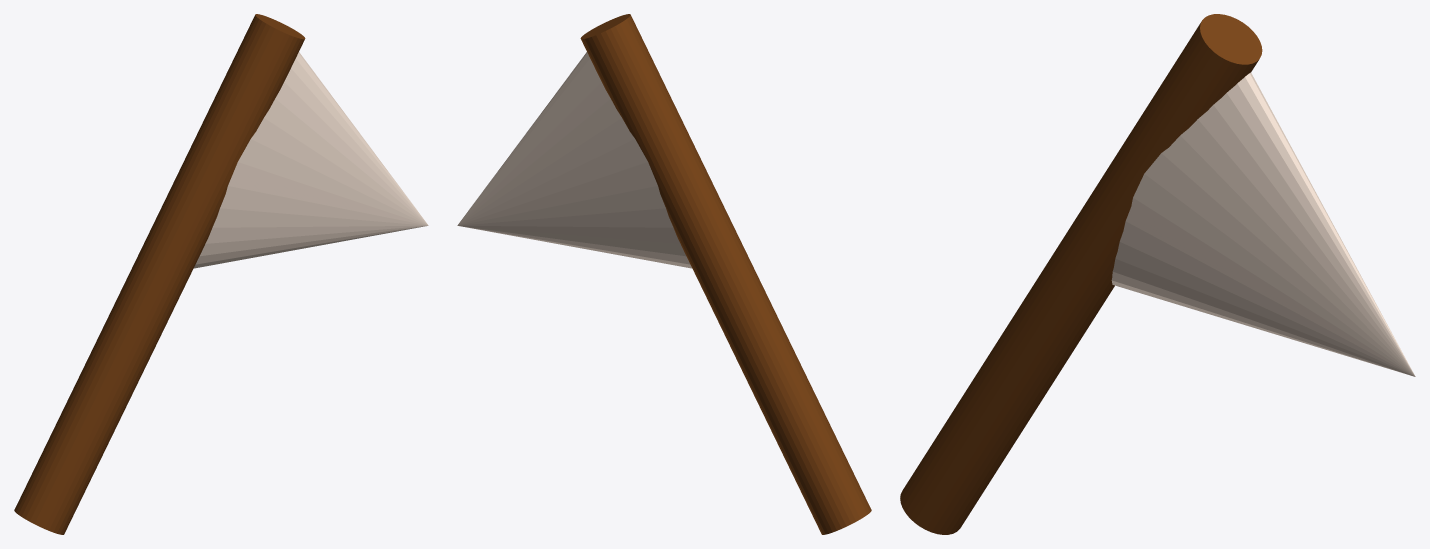
Rendered from goal.obj.
3 views of the same model, side by side, from view 1: azimuth 30°, elevation 25°; view 2: azimuth 150°, elevation 25°; view 3: azimuth 330°, elevation 25° (orthographic). The views are drawn at different scales.
Parts seen in each view (by area): view 1: 円柱; view 2: 円柱; view 3: 円柱.
Part boxes in pixels (x1,y1,x2,y2): 円柱: (14,14,428,534); 円柱: (457,14,871,534); 円柱: (900,14,1415,534).
Bounding box in the file's own units: 1.7 × 1.83 × 0.2.
Materials: 1 (1 with a texture image).
